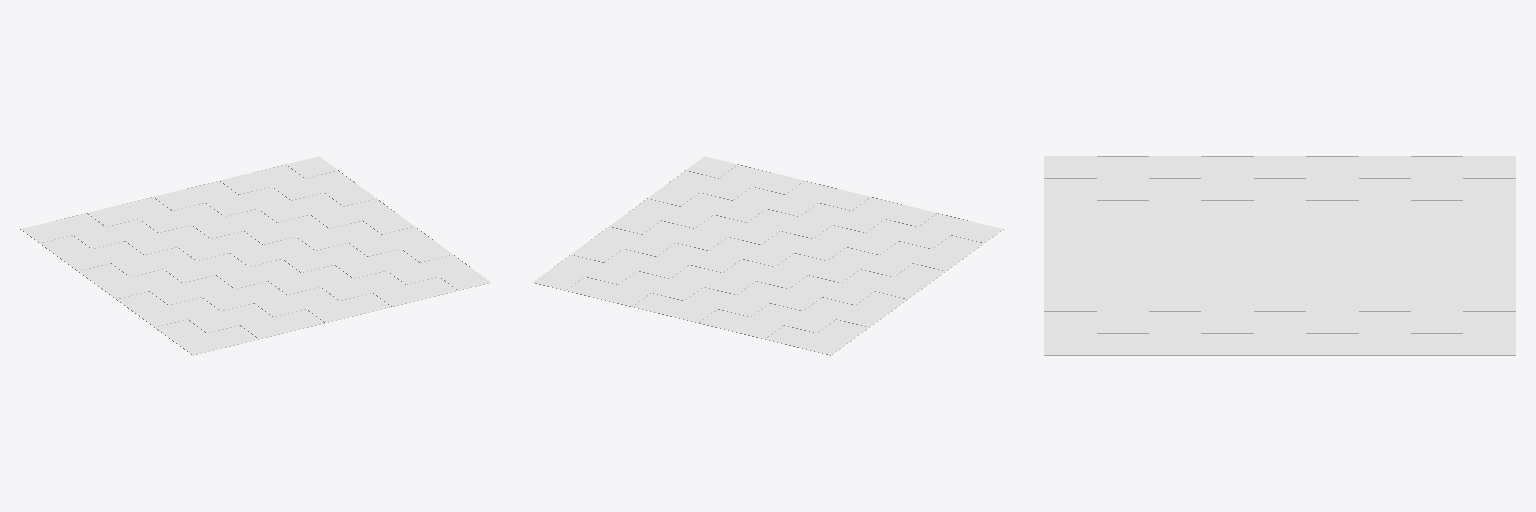
--- Render facts (derived) ---
3 views of the same robot in one strip: view 1: azimuth 30°, elevation 25°; view 2: azimuth 150°, elevation 25°; view 3: azimuth 270°, elevation 25° (orthographic).
Model terrain with 82 links and 81 joints (81 fixed), rooted at 0, posed every joint at zero.
Links seen in each view (by area): view 1: bords, 36, 48, 66, 14, 6, 78, 26, 0, 54, 72, 46 (+28 smaller); view 2: bords, 36, 12, 30, 68, 6, 78, 62, 0, 18, 72, 10 (+28 smaller); view 3: bords, 2, 74, 20, 38, 56, 0, 72, 28, 46, 29, 47 (+28 smaller).
Link boxes in pixels (<box>): bords: <box>20,164,488,355</box>; 36: <box>97,277,148,298</box>; 48: <box>178,239,228,260</box>; 66: <box>140,211,190,232</box>; 14: <box>321,279,371,300</box>; 6: <box>374,285,424,306</box>; 78: <box>220,173,271,193</box>; 26: <box>401,241,452,261</box>; 0: <box>174,333,224,354</box>; 54: <box>59,249,109,270</box>; 72: <box>21,221,71,242</box>; 46: <box>112,255,162,276</box>; bords: <box>535,164,1003,355</box>; 36: <box>875,277,926,298</box>; 12: <box>833,211,883,232</box>; 30: <box>795,239,845,260</box>; 68: <box>652,279,702,300</box>; 6: <box>752,173,803,193</box>; 78: <box>599,285,649,306</box>; 62: <box>571,241,622,261</box>; 0: <box>952,221,1002,242</box>; 18: <box>914,249,964,270</box>; 72: <box>799,333,849,354</box>; 10: <box>900,227,950,248</box>; bords: <box>1044,156,1515,355</box>; 2: <box>1044,200,1096,222</box>; 74: <box>1463,200,1515,222</box>; 20: <box>1149,200,1200,222</box>; 38: <box>1254,200,1305,222</box>; 56: <box>1359,200,1410,222</box>; 0: <box>1044,156,1096,177</box>; 72: <box>1463,156,1515,177</box>; 28: <box>1201,178,1253,199</box>; 46: <box>1306,178,1358,199</box>; 29: <box>1201,201,1253,222</box>; 47: <box>1306,201,1358,222</box>.
Bounding box of the posed robot: 18 × 18 × 0.02 m (x, y, z).
Meshes: 2 distinct files referenced, 82 mesh visuals loaded (2 OBJ).

The robot description file, URDF, robot "terrain":
<?xml version="0.0" ?>
<robot name="terrain">
  <link name="0">
  <contact>
    <lateral_friction value="1"/>
  </contact>
    <inertial>
      <origin rpy="0 0 0" xyz="0 0 0"/>
      <mass value=".0"/>
      <inertia ixx="0" ixy="0" ixz="0" iyy="0" iyz="0" izz="0"/>
    </inertial>
    <visual>
      <origin rpy="0 0 0" xyz="-8 -8 -0.0 "/>
    <geometry>
        <mesh filename="terrain1.obj" scale="1 1 1"/>
    </geometry>
    <material name="white">    <color rgba="1 1 1 1"/>    </material>    </visual>
    <collision>
      <origin rpy="0 0 0" xyz="-8 -8 -0.0 "/>
    <geometry>
        <mesh filename="terrain1.obj" scale="1 1 1"/>
    </geometry>
    </collision>
  </link>

  <link name="9">
  <contact>
    <lateral_friction value="1"/>
  </contact>
    <inertial>
      <origin rpy="0 0 0" xyz="0 0 0"/>
      <mass value=".0"/>
      <inertia ixx="0" ixy="0" ixz="0" iyy="0" iyz="0" izz="0"/>
    </inertial>
    <visual>
      <origin rpy="0 0 0" xyz="-8 -6 -0.02 "/>
    <geometry>
        <mesh filename="terrain1.obj" scale="1 1 1"/>
    </geometry>
    <material name="white">    <color rgba="1 1 1 1"/>    </material>    </visual>
    <collision>
      <origin rpy="0 0 0" xyz="-8 -6 -0.02 "/>
    <geometry>
        <mesh filename="terrain1.obj" scale="1 1 1"/>
    </geometry>
    </collision>
  </link>

  <link name="18">
  <contact>
    <lateral_friction value="1"/>
  </contact>
    <inertial>
      <origin rpy="0 0 0" xyz="0 0 0"/>
      <mass value=".0"/>
      <inertia ixx="0" ixy="0" ixz="0" iyy="0" iyz="0" izz="0"/>
    </inertial>
    <visual>
      <origin rpy="0 0 0" xyz="-8 -4 -0.0 "/>
    <geometry>
        <mesh filename="terrain1.obj" scale="1 1 1"/>
    </geometry>
    <material name="white">    <color rgba="1 1 1 1"/>    </material>    </visual>
    <collision>
      <origin rpy="0 0 0" xyz="-8 -4 -0.0 "/>
    <geometry>
        <mesh filename="terrain1.obj" scale="1 1 1"/>
    </geometry>
    </collision>
  </link>

  <link name="27">
  <contact>
    <lateral_friction value="1"/>
  </contact>
    <inertial>
      <origin rpy="0 0 0" xyz="0 0 0"/>
      <mass value=".0"/>
      <inertia ixx="0" ixy="0" ixz="0" iyy="0" iyz="0" izz="0"/>
    </inertial>
    <visual>
      <origin rpy="0 0 0" xyz="-8 -2 -0.02 "/>
    <geometry>
        <mesh filename="terrain1.obj" scale="1 1 1"/>
    </geometry>
    <material name="white">    <color rgba="1 1 1 1"/>    </material>    </visual>
    <collision>
      <origin rpy="0 0 0" xyz="-8 -2 -0.02 "/>
    <geometry>
        <mesh filename="terrain1.obj" scale="1 1 1"/>
    </geometry>
    </collision>
  </link>

  <link name="36">
  <contact>
    <lateral_friction value="1"/>
  </contact>
    <inertial>
      <origin rpy="0 0 0" xyz="0 0 0"/>
      <mass value=".0"/>
      <inertia ixx="0" ixy="0" ixz="0" iyy="0" iyz="0" izz="0"/>
    </inertial>
    <visual>
      <origin rpy="0 0 0" xyz="-8 0 -0.0 "/>
    <geometry>
        <mesh filename="terrain1.obj" scale="1 1 1"/>
    </geometry>
    <material name="white">    <color rgba="1 1 1 1"/>    </material>    </visual>
    <collision>
      <origin rpy="0 0 0" xyz="-8 0 -0.0 "/>
    <geometry>
        <mesh filename="terrain1.obj" scale="1 1 1"/>
    </geometry>
    </collision>
  </link>

  <link name="45">
  <contact>
    <lateral_friction value="1"/>
  </contact>
    <inertial>
      <origin rpy="0 0 0" xyz="0 0 0"/>
      <mass value=".0"/>
      <inertia ixx="0" ixy="0" ixz="0" iyy="0" iyz="0" izz="0"/>
    </inertial>
    <visual>
      <origin rpy="0 0 0" xyz="-8 2 -0.02 "/>
    <geometry>
        <mesh filename="terrain1.obj" scale="1 1 1"/>
    </geometry>
    <material name="white">    <color rgba="1 1 1 1"/>    </material>    </visual>
    <collision>
      <origin rpy="0 0 0" xyz="-8 2 -0.02 "/>
    <geometry>
        <mesh filename="terrain1.obj" scale="1 1 1"/>
    </geometry>
    </collision>
  </link>

  <link name="54">
  <contact>
    <lateral_friction value="1"/>
  </contact>
    <inertial>
      <origin rpy="0 0 0" xyz="0 0 0"/>
      <mass value=".0"/>
      <inertia ixx="0" ixy="0" ixz="0" iyy="0" iyz="0" izz="0"/>
    </inertial>
    <visual>
      <origin rpy="0 0 0" xyz="-8 4 -0.0 "/>
    <geometry>
        <mesh filename="terrain1.obj" scale="1 1 1"/>
    </geometry>
    <material name="white">    <color rgba="1 1 1 1"/>    </material>    </visual>
    <collision>
      <origin rpy="0 0 0" xyz="-8 4 -0.0 "/>
    <geometry>
        <mesh filename="terrain1.obj" scale="1 1 1"/>
    </geometry>
    </collision>
  </link>

  <link name="63">
  <contact>
    <lateral_friction value="1"/>
  </contact>
    <inertial>
      <origin rpy="0 0 0" xyz="0 0 0"/>
      <mass value=".0"/>
      <inertia ixx="0" ixy="0" ixz="0" iyy="0" iyz="0" izz="0"/>
    </inertial>
    <visual>
      <origin rpy="0 0 0" xyz="-8 6 -0.02 "/>
    <geometry>
        <mesh filename="terrain1.obj" scale="1 1 1"/>
    </geometry>
    <material name="white">    <color rgba="1 1 1 1"/>    </material>    </visual>
    <collision>
      <origin rpy="0 0 0" xyz="-8 6 -0.02 "/>
    <geometry>
        <mesh filename="terrain1.obj" scale="1 1 1"/>
    </geometry>
    </collision>
  </link>

  <link name="72">
  <contact>
    <lateral_friction value="1"/>
  </contact>
    <inertial>
      <origin rpy="0 0 0" xyz="0 0 0"/>
      <mass value=".0"/>
      <inertia ixx="0" ixy="0" ixz="0" iyy="0" iyz="0" izz="0"/>
    </inertial>
    <visual>
      <origin rpy="0 0 0" xyz="-8 8 -0.0 "/>
    <geometry>
        <mesh filename="terrain1.obj" scale="1 1 1"/>
    </geometry>
    <material name="white">    <color rgba="1 1 1 1"/>    </material>    </visual>
    <collision>
      <origin rpy="0 0 0" xyz="-8 8 -0.0 "/>
    <geometry>
        <mesh filename="terrain1.obj" scale="1 1 1"/>
    </geometry>
    </collision>
  </link>

  <link name="1">
  <contact>
    <lateral_friction value="1"/>
  </contact>
    <inertial>
      <origin rpy="0 0 0" xyz="0 0 0"/>
      <mass value=".0"/>
      <inertia ixx="0" ixy="0" ixz="0" iyy="0" iyz="0" izz="0"/>
    </inertial>
    <visual>
      <origin rpy="0 0 0" xyz="-6 -8 -0.02 "/>
    <geometry>
        <mesh filename="terrain1.obj" scale="1 1 1"/>
    </geometry>
    <material name="white">    <color rgba="1 1 1 1"/>    </material>    </visual>
    <collision>
      <origin rpy="0 0 0" xyz="-6 -8 -0.02 "/>
    <geometry>
        <mesh filename="terrain1.obj" scale="1 1 1"/>
    </geometry>
    </collision>
  </link>

  <link name="10">
  <contact>
    <lateral_friction value="1"/>
  </contact>
    <inertial>
      <origin rpy="0 0 0" xyz="0 0 0"/>
      <mass value=".0"/>
      <inertia ixx="0" ixy="0" ixz="0" iyy="0" iyz="0" izz="0"/>
    </inertial>
    <visual>
      <origin rpy="0 0 0" xyz="-6 -6 -0.0 "/>
    <geometry>
        <mesh filename="terrain1.obj" scale="1 1 1"/>
    </geometry>
    <material name="white">    <color rgba="1 1 1 1"/>    </material>    </visual>
    <collision>
      <origin rpy="0 0 0" xyz="-6 -6 -0.0 "/>
    <geometry>
        <mesh filename="terrain1.obj" scale="1 1 1"/>
    </geometry>
    </collision>
  </link>

  <link name="19">
  <contact>
    <lateral_friction value="1"/>
  </contact>
    <inertial>
      <origin rpy="0 0 0" xyz="0 0 0"/>
      <mass value=".0"/>
      <inertia ixx="0" ixy="0" ixz="0" iyy="0" iyz="0" izz="0"/>
    </inertial>
    <visual>
      <origin rpy="0 0 0" xyz="-6 -4 -0.02 "/>
    <geometry>
        <mesh filename="terrain1.obj" scale="1 1 1"/>
    </geometry>
    <material name="white">    <color rgba="1 1 1 1"/>    </material>    </visual>
    <collision>
      <origin rpy="0 0 0" xyz="-6 -4 -0.02 "/>
    <geometry>
        <mesh filename="terrain1.obj" scale="1 1 1"/>
    </geometry>
    </collision>
  </link>

  <link name="28">
  <contact>
    <lateral_friction value="1"/>
  </contact>
    <inertial>
      <origin rpy="0 0 0" xyz="0 0 0"/>
      <mass value=".0"/>
      <inertia ixx="0" ixy="0" ixz="0" iyy="0" iyz="0" izz="0"/>
    </inertial>
    <visual>
      <origin rpy="0 0 0" xyz="-6 -2 -0.0 "/>
    <geometry>
        <mesh filename="terrain1.obj" scale="1 1 1"/>
    </geometry>
    <material name="white">    <color rgba="1 1 1 1"/>    </material>    </visual>
    <collision>
      <origin rpy="0 0 0" xyz="-6 -2 -0.0 "/>
    <geometry>
        <mesh filename="terrain1.obj" scale="1 1 1"/>
    </geometry>
    </collision>
  </link>

  <link name="37">
  <contact>
    <lateral_friction value="1"/>
  </contact>
    <inertial>
      <origin rpy="0 0 0" xyz="0 0 0"/>
      <mass value=".0"/>
      <inertia ixx="0" ixy="0" ixz="0" iyy="0" iyz="0" izz="0"/>
    </inertial>
    <visual>
      <origin rpy="0 0 0" xyz="-6 0 -0.02 "/>
    <geometry>
        <mesh filename="terrain1.obj" scale="1 1 1"/>
    </geometry>
    <material name="white">    <color rgba="1 1 1 1"/>    </material>    </visual>
    <collision>
      <origin rpy="0 0 0" xyz="-6 0 -0.02 "/>
    <geometry>
        <mesh filename="terrain1.obj" scale="1 1 1"/>
    </geometry>
    </collision>
  </link>

  <link name="46">
  <contact>
    <lateral_friction value="1"/>
  </contact>
    <inertial>
      <origin rpy="0 0 0" xyz="0 0 0"/>
      <mass value=".0"/>
      <inertia ixx="0" ixy="0" ixz="0" iyy="0" iyz="0" izz="0"/>
    </inertial>
    <visual>
      <origin rpy="0 0 0" xyz="-6 2 -0.0 "/>
    <geometry>
        <mesh filename="terrain1.obj" scale="1 1 1"/>
    </geometry>
    <material name="white">    <color rgba="1 1 1 1"/>    </material>    </visual>
    <collision>
      <origin rpy="0 0 0" xyz="-6 2 -0.0 "/>
    <geometry>
        <mesh filename="terrain1.obj" scale="1 1 1"/>
    </geometry>
    </collision>
  </link>

  <link name="55">
  <contact>
    <lateral_friction value="1"/>
  </contact>
    <inertial>
      <origin rpy="0 0 0" xyz="0 0 0"/>
      <mass value=".0"/>
      <inertia ixx="0" ixy="0" ixz="0" iyy="0" iyz="0" izz="0"/>
    </inertial>
    <visual>
      <origin rpy="0 0 0" xyz="-6 4 -0.02 "/>
    <geometry>
        <mesh filename="terrain1.obj" scale="1 1 1"/>
    </geometry>
    <material name="white">    <color rgba="1 1 1 1"/>    </material>    </visual>
    <collision>
      <origin rpy="0 0 0" xyz="-6 4 -0.02 "/>
    <geometry>
        <mesh filename="terrain1.obj" scale="1 1 1"/>
    </geometry>
    </collision>
  </link>

  <link name="64">
  <contact>
    <lateral_friction value="1"/>
  </contact>
    <inertial>
      <origin rpy="0 0 0" xyz="0 0 0"/>
      <mass value=".0"/>
      <inertia ixx="0" ixy="0" ixz="0" iyy="0" iyz="0" izz="0"/>
    </inertial>
    <visual>
      <origin rpy="0 0 0" xyz="-6 6 -0.0 "/>
    <geometry>
        <mesh filename="terrain1.obj" scale="1 1 1"/>
    </geometry>
    <material name="white">    <color rgba="1 1 1 1"/>    </material>    </visual>
    <collision>
      <origin rpy="0 0 0" xyz="-6 6 -0.0 "/>
    <geometry>
        <mesh filename="terrain1.obj" scale="1 1 1"/>
    </geometry>
    </collision>
  </link>

  <link name="73">
  <contact>
    <lateral_friction value="1"/>
  </contact>
    <inertial>
      <origin rpy="0 0 0" xyz="0 0 0"/>
      <mass value=".0"/>
      <inertia ixx="0" ixy="0" ixz="0" iyy="0" iyz="0" izz="0"/>
    </inertial>
    <visual>
      <origin rpy="0 0 0" xyz="-6 8 -0.02 "/>
    <geometry>
        <mesh filename="terrain1.obj" scale="1 1 1"/>
    </geometry>
    <material name="white">    <color rgba="1 1 1 1"/>    </material>    </visual>
    <collision>
      <origin rpy="0 0 0" xyz="-6 8 -0.02 "/>
    <geometry>
        <mesh filename="terrain1.obj" scale="1 1 1"/>
    </geometry>
    </collision>
  </link>

  <link name="2">
  <contact>
    <lateral_friction value="1"/>
  </contact>
    <inertial>
      <origin rpy="0 0 0" xyz="0 0 0"/>
      <mass value=".0"/>
      <inertia ixx="0" ixy="0" ixz="0" iyy="0" iyz="0" izz="0"/>
    </inertial>
    <visual>
      <origin rpy="0 0 0" xyz="-4 -8 -0.0 "/>
    <geometry>
        <mesh filename="terrain1.obj" scale="1 1 1"/>
    </geometry>
    <material name="white">    <color rgba="1 1 1 1"/>    </material>    </visual>
    <collision>
      <origin rpy="0 0 0" xyz="-4 -8 -0.0 "/>
    <geometry>
        <mesh filename="terrain1.obj" scale="1 1 1"/>
    </geometry>
    </collision>
  </link>

  <link name="11">
  <contact>
    <lateral_friction value="1"/>
  </contact>
    <inertial>
      <origin rpy="0 0 0" xyz="0 0 0"/>
      <mass value=".0"/>
      <inertia ixx="0" ixy="0" ixz="0" iyy="0" iyz="0" izz="0"/>
    </inertial>
    <visual>
      <origin rpy="0 0 0" xyz="-4 -6 -0.02 "/>
    <geometry>
        <mesh filename="terrain1.obj" scale="1 1 1"/>
    </geometry>
    <material name="white">    <color rgba="1 1 1 1"/>    </material>    </visual>
    <collision>
      <origin rpy="0 0 0" xyz="-4 -6 -0.02 "/>
    <geometry>
        <mesh filename="terrain1.obj" scale="1 1 1"/>
    </geometry>
    </collision>
  </link>

  <link name="20">
  <contact>
    <lateral_friction value="1"/>
  </contact>
    <inertial>
      <origin rpy="0 0 0" xyz="0 0 0"/>
      <mass value=".0"/>
      <inertia ixx="0" ixy="0" ixz="0" iyy="0" iyz="0" izz="0"/>
    </inertial>
    <visual>
      <origin rpy="0 0 0" xyz="-4 -4 -0.0 "/>
    <geometry>
        <mesh filename="terrain1.obj" scale="1 1 1"/>
    </geometry>
    <material name="white">    <color rgba="1 1 1 1"/>    </material>    </visual>
    <collision>
      <origin rpy="0 0 0" xyz="-4 -4 -0.0 "/>
    <geometry>
        <mesh filename="terrain1.obj" scale="1 1 1"/>
    </geometry>
    </collision>
  </link>

  <link name="29">
  <contact>
    <lateral_friction value="1"/>
  </contact>
    <inertial>
      <origin rpy="0 0 0" xyz="0 0 0"/>
      <mass value=".0"/>
      <inertia ixx="0" ixy="0" ixz="0" iyy="0" iyz="0" izz="0"/>
    </inertial>
    <visual>
      <origin rpy="0 0 0" xyz="-4 -2 -0.02 "/>
    <geometry>
        <mesh filename="terrain1.obj" scale="1 1 1"/>
    </geometry>
    <material name="white">    <color rgba="1 1 1 1"/>    </material>    </visual>
    <collision>
      <origin rpy="0 0 0" xyz="-4 -2 -0.02 "/>
    <geometry>
        <mesh filename="terrain1.obj" scale="1 1 1"/>
    </geometry>
    </collision>
  </link>

  <link name="38">
  <contact>
    <lateral_friction value="1"/>
  </contact>
    <inertial>
      <origin rpy="0 0 0" xyz="0 0 0"/>
      <mass value=".0"/>
      <inertia ixx="0" ixy="0" ixz="0" iyy="0" iyz="0" izz="0"/>
    </inertial>
    <visual>
      <origin rpy="0 0 0" xyz="-4 0 -0.0 "/>
    <geometry>
        <mesh filename="terrain1.obj" scale="1 1 1"/>
    </geometry>
    <material name="white">    <color rgba="1 1 1 1"/>    </material>    </visual>
    <collision>
      <origin rpy="0 0 0" xyz="-4 0 -0.0 "/>
    <geometry>
        <mesh filename="terrain1.obj" scale="1 1 1"/>
    </geometry>
    </collision>
  </link>

  <link name="47">
  <contact>
    <lateral_friction value="1"/>
  </contact>
    <inertial>
      <origin rpy="0 0 0" xyz="0 0 0"/>
      <mass value=".0"/>
      <inertia ixx="0" ixy="0" ixz="0" iyy="0" iyz="0" izz="0"/>
    </inertial>
    <visual>
      <origin rpy="0 0 0" xyz="-4 2 -0.02 "/>
    <geometry>
        <mesh filename="terrain1.obj" scale="1 1 1"/>
    </geometry>
    <material name="white">    <color rgba="1 1 1 1"/>    </material>    </visual>
    <collision>
      <origin rpy="0 0 0" xyz="-4 2 -0.02 "/>
    <geometry>
        <mesh filename="terrain1.obj" scale="1 1 1"/>
    </geometry>
    </collision>
  </link>

  <link name="56">
  <contact>
    <lateral_friction value="1"/>
  </contact>
    <inertial>
      <origin rpy="0 0 0" xyz="0 0 0"/>
      <mass value=".0"/>
      <inertia ixx="0" ixy="0" ixz="0" iyy="0" iyz="0" izz="0"/>
    </inertial>
    <visual>
      <origin rpy="0 0 0" xyz="-4 4 -0.0 "/>
    <geometry>
        <mesh filename="terrain1.obj" scale="1 1 1"/>
    </geometry>
    <material name="white">    <color rgba="1 1 1 1"/>    </material>    </visual>
    <collision>
      <origin rpy="0 0 0" xyz="-4 4 -0.0 "/>
    <geometry>
        <mesh filename="terrain1.obj" scale="1 1 1"/>
    </geometry>
    </collision>
  </link>

  <link name="65">
  <contact>
    <lateral_friction value="1"/>
  </contact>
    <inertial>
      <origin rpy="0 0 0" xyz="0 0 0"/>
      <mass value=".0"/>
      <inertia ixx="0" ixy="0" ixz="0" iyy="0" iyz="0" izz="0"/>
    </inertial>
    <visual>
      <origin rpy="0 0 0" xyz="-4 6 -0.02 "/>
    <geometry>
        <mesh filename="terrain1.obj" scale="1 1 1"/>
    </geometry>
    <material name="white">    <color rgba="1 1 1 1"/>    </material>    </visual>
    <collision>
      <origin rpy="0 0 0" xyz="-4 6 -0.02 "/>
    <geometry>
        <mesh filename="terrain1.obj" scale="1 1 1"/>
    </geometry>
    </collision>
  </link>

  <link name="74">
  <contact>
    <lateral_friction value="1"/>
  </contact>
    <inertial>
      <origin rpy="0 0 0" xyz="0 0 0"/>
      <mass value=".0"/>
      <inertia ixx="0" ixy="0" ixz="0" iyy="0" iyz="0" izz="0"/>
    </inertial>
    <visual>
      <origin rpy="0 0 0" xyz="-4 8 -0.0 "/>
    <geometry>
        <mesh filename="terrain1.obj" scale="1 1 1"/>
    </geometry>
    <material name="white">    <color rgba="1 1 1 1"/>    </material>    </visual>
    <collision>
      <origin rpy="0 0 0" xyz="-4 8 -0.0 "/>
    <geometry>
        <mesh filename="terrain1.obj" scale="1 1 1"/>
    </geometry>
    </collision>
  </link>

  <link name="3">
  <contact>
    <lateral_friction value="1"/>
  </contact>
    <inertial>
      <origin rpy="0 0 0" xyz="0 0 0"/>
      <mass value=".0"/>
      <inertia ixx="0" ixy="0" ixz="0" iyy="0" iyz="0" izz="0"/>
    </inertial>
    <visual>
      <origin rpy="0 0 0" xyz="-2 -8 -0.02 "/>
    <geometry>
        <mesh filename="terrain1.obj" scale="1 1 1"/>
    </geometry>
    <material name="white">    <color rgba="1 1 1 1"/>    </material>    </visual>
    <collision>
      <origin rpy="0 0 0" xyz="-2 -8 -0.02 "/>
    <geometry>
        <mesh filename="terrain1.obj" scale="1 1 1"/>
    </geometry>
    </collision>
  </link>

  <link name="12">
  <contact>
    <lateral_friction value="1"/>
  </contact>
    <inertial>
      <origin rpy="0 0 0" xyz="0 0 0"/>
      <mass value=".0"/>
      <inertia ixx="0" ixy="0" ixz="0" iyy="0" iyz="0" izz="0"/>
    </inertial>
    <visual>
      <origin rpy="0 0 0" xyz="-2 -6 -0.0 "/>
    <geometry>
        <mesh filename="terrain1.obj" scale="1 1 1"/>
    </geometry>
    <material name="white">    <color rgba="1 1 1 1"/>    </material>    </visual>
    <collision>
      <origin rpy="0 0 0" xyz="-2 -6 -0.0 "/>
    <geometry>
        <mesh filename="terrain1.obj" scale="1 1 1"/>
    </geometry>
    </collision>
  </link>

  <link name="21">
  <contact>
    <lateral_friction value="1"/>
  </contact>
    <inertial>
      <origin rpy="0 0 0" xyz="0 0 0"/>
      <mass value=".0"/>
      <inertia ixx="0" ixy="0" ixz="0" iyy="0" iyz="0" izz="0"/>
    </inertial>
    <visual>
      <origin rpy="0 0 0" xyz="-2 -4 -0.02 "/>
    <geometry>
        <mesh filename="terrain1.obj" scale="1 1 1"/>
    </geometry>
    <material name="white">    <color rgba="1 1 1 1"/>    </material>    </visual>
    <collision>
      <origin rpy="0 0 0" xyz="-2 -4 -0.02 "/>
    <geometry>
        <mesh filename="terrain1.obj" scale="1 1 1"/>
    </geometry>
    </collision>
  </link>

  <link name="30">
  <contact>
    <lateral_friction value="1"/>
  </contact>
    <inertial>
      <origin rpy="0 0 0" xyz="0 0 0"/>
      <mass value=".0"/>
      <inertia ixx="0" ixy="0" ixz="0" iyy="0" iyz="0" izz="0"/>
    </inertial>
    <visual>
      <origin rpy="0 0 0" xyz="-2 -2 -0.0 "/>
    <geometry>
        <mesh filename="terrain1.obj" scale="1 1 1"/>
    </geometry>
    <material name="white">    <color rgba="1 1 1 1"/>    </material>    </visual>
    <collision>
      <origin rpy="0 0 0" xyz="-2 -2 -0.0 "/>
    <geometry>
        <mesh filename="terrain1.obj" scale="1 1 1"/>
    </geometry>
    </collision>
  </link>

  <link name="39">
  <contact>
    <lateral_friction value="1"/>
  </contact>
    <inertial>
      <origin rpy="0 0 0" xyz="0 0 0"/>
      <mass value=".0"/>
      <inertia ixx="0" ixy="0" ixz="0" iyy="0" iyz="0" izz="0"/>
    </inertial>
    <visual>
      <origin rpy="0 0 0" xyz="-2 0 -0.02 "/>
    <geometry>
        <mesh filename="terrain1.obj" scale="1 1 1"/>
    </geometry>
    <material name="white">    <color rgba="1 1 1 1"/>    </material>    </visual>
    <collision>
      <origin rpy="0 0 0" xyz="-2 0 -0.02 "/>
    <geometry>
        <mesh filename="terrain1.obj" scale="1 1 1"/>
    </geometry>
    </collision>
  </link>

  <link name="48">
  <contact>
    <lateral_friction value="1"/>
  </contact>
    <inertial>
      <origin rpy="0 0 0" xyz="0 0 0"/>
      <mass value=".0"/>
      <inertia ixx="0" ixy="0" ixz="0" iyy="0" iyz="0" izz="0"/>
    </inertial>
    <visual>
      <origin rpy="0 0 0" xyz="-2 2 -0.0 "/>
    <geometry>
        <mesh filename="terrain1.obj" scale="1 1 1"/>
    </geometry>
    <material name="white">    <color rgba="1 1 1 1"/>    </material>    </visual>
    <collision>
      <origin rpy="0 0 0" xyz="-2 2 -0.0 "/>
    <geometry>
        <mesh filename="terrain1.obj" scale="1 1 1"/>
    </geometry>
    </collision>
  </link>

  <link name="57">
  <contact>
    <lateral_friction value="1"/>
  </contact>
    <inertial>
      <origin rpy="0 0 0" xyz="0 0 0"/>
      <mass value=".0"/>
      <inertia ixx="0" ixy="0" ixz="0" iyy="0" iyz="0" izz="0"/>
    </inertial>
    <visual>
      <origin rpy="0 0 0" xyz="-2 4 -0.02 "/>
    <geometry>
        <mesh filename="terrain1.obj" scale="1 1 1"/>
    </geometry>
    <material name="white">    <color rgba="1 1 1 1"/>    </material>    </visual>
    <collision>
      <origin rpy="0 0 0" xyz="-2 4 -0.02 "/>
    <geometry>
        <mesh filename="terrain1.obj" scale="1 1 1"/>
    </geometry>
    </collision>
  </link>

  <link name="66">
  <contact>
    <lateral_friction value="1"/>
  </contact>
    <inertial>
      <origin rpy="0 0 0" xyz="0 0 0"/>
      <mass value=".0"/>
      <inertia ixx="0" ixy="0" ixz="0" iyy="0" iyz="0" izz="0"/>
    </inertial>
    <visual>
      <origin rpy="0 0 0" xyz="-2 6 -0.0 "/>
    <geometry>
        <mesh filename="terrain1.obj" scale="1 1 1"/>
    </geometry>
    <material name="white">    <color rgba="1 1 1 1"/>    </material>    </visual>
    <collision>
      <origin rpy="0 0 0" xyz="-2 6 -0.0 "/>
    <geometry>
        <mesh filename="terrain1.obj" scale="1 1 1"/>
    </geometry>
    </collision>
  </link>

  <link name="75">
  <contact>
    <lateral_friction value="1"/>
  </contact>
    <inertial>
      <origin rpy="0 0 0" xyz="0 0 0"/>
      <mass value=".0"/>
      <inertia ixx="0" ixy="0" ixz="0" iyy="0" iyz="0" izz="0"/>
    </inertial>
    <visual>
      <origin rpy="0 0 0" xyz="-2 8 -0.02 "/>
    <geometry>
        <mesh filename="terrain1.obj" scale="1 1 1"/>
    </geometry>
    <material name="white">    <color rgba="1 1 1 1"/>    </material>    </visual>
    <collision>
      <origin rpy="0 0 0" xyz="-2 8 -0.02 "/>
    <geometry>
        <mesh filename="terrain1.obj" scale="1 1 1"/>
    </geometry>
    </collision>
  </link>

  <link name="4">
  <contact>
    <lateral_friction value="1"/>
  </contact>
    <inertial>
      <origin rpy="0 0 0" xyz="0 0 0"/>
      <mass value=".0"/>
      <inertia ixx="0" ixy="0" ixz="0" iyy="0" iyz="0" izz="0"/>
    </inertial>
    <visual>
      <origin rpy="0 0 0" xyz="0 -8 -0.0 "/>
    <geometry>
        <mesh filename="terrain1.obj" scale="1 1 1"/>
    </geometry>
    <material name="white">    <color rgba="1 1 1 1"/>    </material>    </visual>
    <collision>
      <origin rpy="0 0 0" xyz="0 -8 -0.0 "/>
    <geometry>
        <mesh filename="terrain1.obj" scale="1 1 1"/>
    </geometry>
    </collision>
  </link>

  <link name="13">
  <contact>
    <lateral_friction value="1"/>
  </contact>
    <inertial>
      <origin rpy="0 0 0" xyz="0 0 0"/>
      <mass value=".0"/>
      <inertia ixx="0" ixy="0" ixz="0" iyy="0" iyz="0" izz="0"/>
    </inertial>
    <visual>
      <origin rpy="0 0 0" xyz="0 -6 -0.02 "/>
    <geometry>
        <mesh filename="terrain1.obj" scale="1 1 1"/>
    </geometry>
    <material name="white">    <color rgba="1 1 1 1"/>    </material>    </visual>
    <collision>
      <origin rpy="0 0 0" xyz="0 -6 -0.02 "/>
    <geometry>
        <mesh filename="terrain1.obj" scale="1 1 1"/>
    </geometry>
    </collision>
  </link>

  <link name="22">
  <contact>
    <lateral_friction value="1"/>
  </contact>
    <inertial>
      <origin rpy="0 0 0" xyz="0 0 0"/>
      <mass value=".0"/>
      <inertia ixx="0" ixy="0" ixz="0" iyy="0" iyz="0" izz="0"/>
    </inertial>
    <visual>
      <origin rpy="0 0 0" xyz="0 -4 -0.0 "/>
    <geometry>
        <mesh filename="terrain1.obj" scale="1 1 1"/>
    </geometry>
    <material name="white">    <color rgba="1 1 1 1"/>    </material>    </visual>
    <collision>
      <origin rpy="0 0 0" xyz="0 -4 -0.0 "/>
    <geometry>
        <mesh filename="terrain1.obj" scale="1 1 1"/>
    </geometry>
    </collision>
  </link>

  <link name="31">
  <contact>
    <lateral_friction value="1"/>
  </contact>
    <inertial>
      <origin rpy="0 0 0" xyz="0 0 0"/>
      <mass value=".0"/>
      <inertia ixx="0" ixy="0" ixz="0" iyy="0" iyz="0" izz="0"/>
    </inertial>
    <visual>
      <origin rpy="0 0 0" xyz="0 -2 -0.02 "/>
    <geometry>
        <mesh filename="terrain1.obj" scale="1 1 1"/>
    </geometry>
    <material name="white">    <color rgba="1 1 1 1"/>    </material>    </visual>
    <collision>
      <origin rpy="0 0 0" xyz="0 -2 -0.02 "/>
    <geometry>
        <mesh filename="terrain1.obj" scale="1 1 1"/>
    </geometry>
    </collision>
  </link>

  <link name="40">
  <contact>
    <lateral_friction value="1"/>
  </contact>
    <inertial>
      <origin rpy="0 0 0" xyz="0 0 0"/>
      <mass value=".0"/>
      <inertia ixx="0" ixy="0" ixz="0" iyy="0" iyz="0" izz="0"/>
    </inertial>
    <visual>
      <origin rpy="0 0 0" xyz="0 0 -0.0 "/>
    <geometry>
        <mesh filename="terrain1.obj" scale="1 1 1"/>
    </geometry>
    <material name="white">    <color rgba="1 1 1 1"/>    </material>    </visual>
    <collision>
      <origin rpy="0 0 0" xyz="0 0 -0.0 "/>
    <geometry>
        <mesh filename="terrain1.obj" scale="1 1 1"/>
    </geometry>
    </collision>
  </link>

  <link name="49">
  <contact>
    <lateral_friction value="1"/>
  </contact>
    <inertial>
      <origin rpy="0 0 0" xyz="0 0 0"/>
      <mass value=".0"/>
      <inertia ixx="0" ixy="0" ixz="0" iyy="0" iyz="0" izz="0"/>
    </inertial>
    <visual>
      <origin rpy="0 0 0" xyz="0 2 -0.02 "/>
    <geometry>
        <mesh filename="terrain1.obj" scale="1 1 1"/>
    </geometry>
    <material name="white">    <color rgba="1 1 1 1"/>    </material>    </visual>
    <collision>
      <origin rpy="0 0 0" xyz="0 2 -0.02 "/>
    <geometry>
        <mesh filename="terrain1.obj" scale="1 1 1"/>
    </geometry>
    </collision>
  </link>

  <link name="58">
  <contact>
    <lateral_friction value="1"/>
  </contact>
    <inertial>
      <origin rpy="0 0 0" xyz="0 0 0"/>
      <mass value=".0"/>
      <inertia ixx="0" ixy="0" ixz="0" iyy="0" iyz="0" izz="0"/>
    </inertial>
    <visual>
      <origin rpy="0 0 0" xyz="0 4 -0.0 "/>
    <geometry>
        <mesh filename="terrain1.obj" scale="1 1 1"/>
    </geometry>
    <material name="white">    <color rgba="1 1 1 1"/>    </material>    </visual>
    <collision>
      <origin rpy="0 0 0" xyz="0 4 -0.0 "/>
    <geometry>
        <mesh filename="terrain1.obj" scale="1 1 1"/>
    </geometry>
    </collision>
  </link>

  <link name="67">
  <contact>
    <lateral_friction value="1"/>
  </contact>
    <inertial>
      <origin rpy="0 0 0" xyz="0 0 0"/>
      <mass value=".0"/>
      <inertia ixx="0" ixy="0" ixz="0" iyy="0" iyz="0" izz="0"/>
    </inertial>
    <visual>
      <origin rpy="0 0 0" xyz="0 6 -0.02 "/>
    <geometry>
        <mesh filename="terrain1.obj" scale="1 1 1"/>
    </geometry>
    <material name="white">    <color rgba="1 1 1 1"/>    </material>    </visual>
    <collision>
      <origin rpy="0 0 0" xyz="0 6 -0.02 "/>
    <geometry>
        <mesh filename="terrain1.obj" scale="1 1 1"/>
    </geometry>
    </collision>
  </link>

  <link name="76">
  <contact>
    <lateral_friction value="1"/>
  </contact>
    <inertial>
      <origin rpy="0 0 0" xyz="0 0 0"/>
      <mass value=".0"/>
      <inertia ixx="0" ixy="0" ixz="0" iyy="0" iyz="0" izz="0"/>
    </inertial>
    <visual>
      <origin rpy="0 0 0" xyz="0 8 -0.0 "/>
    <geometry>
        <mesh filename="terrain1.obj" scale="1 1 1"/>
    </geometry>
    <material name="white">    <color rgba="1 1 1 1"/>    </material>    </visual>
    <collision>
      <origin rpy="0 0 0" xyz="0 8 -0.0 "/>
    <geometry>
        <mesh filename="terrain1.obj" scale="1 1 1"/>
    </geometry>
    </collision>
  </link>

  <link name="5">
  <contact>
    <lateral_friction value="1"/>
  </contact>
    <inertial>
      <origin rpy="0 0 0" xyz="0 0 0"/>
      <mass value=".0"/>
      <inertia ixx="0" ixy="0" ixz="0" iyy="0" iyz="0" izz="0"/>
    </inertial>
    <visual>
      <origin rpy="0 0 0" xyz="2 -8 -0.02 "/>
    <geometry>
        <mesh filename="terrain1.obj" scale="1 1 1"/>
    </geometry>
    <material name="white">    <color rgba="1 1 1 1"/>    </material>    </visual>
    <collision>
      <origin rpy="0 0 0" xyz="2 -8 -0.02 "/>
    <geometry>
        <mesh filename="terrain1.obj" scale="1 1 1"/>
    </geometry>
    </collision>
  </link>

  <link name="14">
  <contact>
    <lateral_friction value="1"/>
  </contact>
    <inertial>
      <origin rpy="0 0 0" xyz="0 0 0"/>
      <mass value=".0"/>
      <inertia ixx="0" ixy="0" ixz="0" iyy="0" iyz="0" izz="0"/>
    </inertial>
    <visual>
      <origin rpy="0 0 0" xyz="2 -6 -0.0 "/>
    <geometry>
        <mesh filename="terrain1.obj" scale="1 1 1"/>
    </geometry>
    <material name="white">    <color rgba="1 1 1 1"/>    </material>    </visual>
    <collision>
      <origin rpy="0 0 0" xyz="2 -6 -0.0 "/>
    <geometry>
        <mesh filename="terrain1.obj" scale="1 1 1"/>
    </geometry>
    </collision>
  </link>

  <link name="23">
  <contact>
    <lateral_friction value="1"/>
  </contact>
    <inertial>
      <origin rpy="0 0 0" xyz="0 0 0"/>
      <mass value=".0"/>
      <inertia ixx="0" ixy="0" ixz="0" iyy="0" iyz="0" izz="0"/>
    </inertial>
    <visual>
      <origin rpy="0 0 0" xyz="2 -4 -0.02 "/>
    <geometry>
        <mesh filename="terrain1.obj" scale="1 1 1"/>
    </geometry>
    <material name="white">    <color rgba="1 1 1 1"/>    </material>    </visual>
    <collision>
      <origin rpy="0 0 0" xyz="2 -4 -0.02 "/>
    <geometry>
        <mesh filename="terrain1.obj" scale="1 1 1"/>
    </geometry>
    </collision>
  </link>

  <link name="32">
  <contact>
    <lateral_friction value="1"/>
  </contact>
    <inertial>
      <origin rpy="0 0 0" xyz="0 0 0"/>
      <mass value=".0"/>
      <inertia ixx="0" ixy="0" ixz="0" iyy="0" iyz="0" izz="0"/>
    </inertial>
    <visual>
      <origin rpy="0 0 0" xyz="2 -2 -0.0 "/>
    <geometry>
        <mesh filename="terrain1.obj" scale="1 1 1"/>
    </geometry>
    <material name="white">    <color rgba="1 1 1 1"/>    </material>    </visual>
    <collision>
      <origin rpy="0 0 0" xyz="2 -2 -0.0 "/>
    <geometry>
        <mesh filename="terrain1.obj" scale="1 1 1"/>
    </geometry>
    </collision>
  </link>

  <link name="41">
  <contact>
    <lateral_friction value="1"/>
  </contact>
    <inertial>
      <origin rpy="0 0 0" xyz="0 0 0"/>
      <mass value=".0"/>
      <inertia ixx="0" ixy="0" ixz="0" iyy="0" iyz="0" izz="0"/>
    </inertial>
    <visual>
      <origin rpy="0 0 0" xyz="2 0 -0.02 "/>
    <geometry>
        <mesh filename="terrain1.obj" scale="1 1 1"/>
    </geometry>
    <material name="white">    <color rgba="1 1 1 1"/>    </material>    </visual>
    <collision>
      <origin rpy="0 0 0" xyz="2 0 -0.02 "/>
    <geometry>
        <mesh filename="terrain1.obj" scale="1 1 1"/>
    </geometry>
    </collision>
  </link>

  <link name="50">
  <contact>
    <lateral_friction value="1"/>
  </contact>
    <inertial>
      <origin rpy="0 0 0" xyz="0 0 0"/>
      <mass value=".0"/>
      <inertia ixx="0" ixy="0" ixz="0" iyy="0" iyz="0" izz="0"/>
    </inertial>
    <visual>
      <origin rpy="0 0 0" xyz="2 2 -0.0 "/>
    <geometry>
        <mesh filename="terrain1.obj" scale="1 1 1"/>
    </geometry>
    <material name="white">    <color rgba="1 1 1 1"/>    </material>    </visual>
    <collision>
      <origin rpy="0 0 0" xyz="2 2 -0.0 "/>
    <geometry>
        <mesh filename="terrain1.obj" scale="1 1 1"/>
    </geometry>
    </collision>
  </link>

  <link name="59">
  <contact>
    <lateral_friction value="1"/>
  </contact>
    <inertial>
      <origin rpy="0 0 0" xyz="0 0 0"/>
      <mass value=".0"/>
      <inertia ixx="0" ixy="0" ixz="0" iyy="0" iyz="0" izz="0"/>
    </inertial>
    <visual>
      <origin rpy="0 0 0" xyz="2 4 -0.02 "/>
    <geometry>
        <mesh filename="terrain1.obj" scale="1 1 1"/>
    </geometry>
    <material name="white">    <color rgba="1 1 1 1"/>    </material>    </visual>
    <collision>
      <origin rpy="0 0 0" xyz="2 4 -0.02 "/>
    <geometry>
        <mesh filename="terrain1.obj" scale="1 1 1"/>
    </geometry>
    </collision>
  </link>

  <link name="68">
  <contact>
    <lateral_friction value="1"/>
  </contact>
    <inertial>
      <origin rpy="0 0 0" xyz="0 0 0"/>
      <mass value=".0"/>
      <inertia ixx="0" ixy="0" ixz="0" iyy="0" iyz="0" izz="0"/>
    </inertial>
    <visual>
      <origin rpy="0 0 0" xyz="2 6 -0.0 "/>
    <geometry>
        <mesh filename="terrain1.obj" scale="1 1 1"/>
    </geometry>
    <material name="white">    <color rgba="1 1 1 1"/>    </material>    </visual>
    <collision>
      <origin rpy="0 0 0" xyz="2 6 -0.0 "/>
    <geometry>
        <mesh filename="terrain1.obj" scale="1 1 1"/>
    </geometry>
    </collision>
  </link>

  <link name="77">
  <contact>
    <lateral_friction value="1"/>
  </contact>
    <inertial>
      <origin rpy="0 0 0" xyz="0 0 0"/>
      <mass value=".0"/>
      <inertia ixx="0" ixy="0" ixz="0" iyy="0" iyz="0" izz="0"/>
    </inertial>
    <visual>
      <origin rpy="0 0 0" xyz="2 8 -0.02 "/>
    <geometry>
        <mesh filename="terrain1.obj" scale="1 1 1"/>
    </geometry>
    <material name="white">    <color rgba="1 1 1 1"/>    </material>    </visual>
    <collision>
      <origin rpy="0 0 0" xyz="2 8 -0.02 "/>
    <geometry>
        <mesh filename="terrain1.obj" scale="1 1 1"/>
    </geometry>
    </collision>
  </link>

  <link name="6">
  <contact>
    <lateral_friction value="1"/>
  </contact>
    <inertial>
      <origin rpy="0 0 0" xyz="0 0 0"/>
      <mass value=".0"/>
      <inertia ixx="0" ixy="0" ixz="0" iyy="0" iyz="0" izz="0"/>
    </inertial>
    <visual>
      <origin rpy="0 0 0" xyz="4 -8 -0.0 "/>
    <geometry>
        <mesh filename="terrain1.obj" scale="1 1 1"/>
    </geometry>
    <material name="white">    <color rgba="1 1 1 1"/>    </material>    </visual>
    <collision>
      <origin rpy="0 0 0" xyz="4 -8 -0.0 "/>
    <geometry>
        <mesh filename="terrain1.obj" scale="1 1 1"/>
    </geometry>
    </collision>
  </link>

  <link name="15">
  <contact>
    <lateral_friction value="1"/>
  </contact>
    <inertial>
      <origin rpy="0 0 0" xyz="0 0 0"/>
      <mass value=".0"/>
      <inertia ixx="0" ixy="0" ixz="0" iyy="0" iyz="0" izz="0"/>
    </inertial>
    <visual>
      <origin rpy="0 0 0" xyz="4 -6 -0.02 "/>
    <geometry>
        <mesh filename="terrain1.obj" scale="1 1 1"/>
    </geometry>
    <material name="white">    <color rgba="1 1 1 1"/>    </material>    </visual>
    <collision>
      <origin rpy="0 0 0" xyz="4 -6 -0.02 "/>
    <geometry>
        <mesh filename="terrain1.obj" scale="1 1 1"/>
    </geometry>
    </collision>
  </link>

  <link name="24">
  <contact>
    <lateral_friction value="1"/>
  </contact>
    <inertial>
      <origin rpy="0 0 0" xyz="0 0 0"/>
      <mass value=".0"/>
      <inertia ixx="0" ixy="0" ixz="0" iyy="0" iyz="0" izz="0"/>
    </inertial>
    <visual>
      <origin rpy="0 0 0" xyz="4 -4 -0.0 "/>
    <geometry>
        <mesh filename="terrain1.obj" scale="1 1 1"/>
    </geometry>
    <material name="white">    <color rgba="1 1 1 1"/>    </material>    </visual>
    <collision>
      <origin rpy="0 0 0" xyz="4 -4 -0.0 "/>
    <geometry>
        <mesh filename="terrain1.obj" scale="1 1 1"/>
    </geometry>
    </collision>
  </link>

  <link name="33">
  <contact>
    <lateral_friction value="1"/>
  </contact>
    <inertial>
      <origin rpy="0 0 0" xyz="0 0 0"/>
      <mass value=".0"/>
      <inertia ixx="0" ixy="0" ixz="0" iyy="0" iyz="0" izz="0"/>
    </inertial>
    <visual>
      <origin rpy="0 0 0" xyz="4 -2 -0.02 "/>
    <geometry>
        <mesh filename="terrain1.obj" scale="1 1 1"/>
    </geometry>
    <material name="white">    <color rgba="1 1 1 1"/>    </material>    </visual>
    <collision>
      <origin rpy="0 0 0" xyz="4 -2 -0.02 "/>
    <geometry>
        <mesh filename="terrain1.obj" scale="1 1 1"/>
    </geometry>
    </collision>
  </link>

  <link name="42">
  <contact>
    <lateral_friction value="1"/>
  </contact>
    <inertial>
      <origin rpy="0 0 0" xyz="0 0 0"/>
      <mass value=".0"/>
      <inertia ixx="0" ixy="0" ixz="0" iyy="0" iyz="0" izz="0"/>
    </inertial>
    <visual>
      <origin rpy="0 0 0" xyz="4 0 -0.0 "/>
    <geometry>
        <mesh filename="terrain1.obj" scale="1 1 1"/>
    </geometry>
    <material name="white">    <color rgba="1 1 1 1"/>    </material>    </visual>
    <collision>
      <origin rpy="0 0 0" xyz="4 0 -0.0 "/>
    <geometry>
        <mesh filename="terrain1.obj" scale="1 1 1"/>
    </geometry>
    </collision>
  </link>

  <link name="51">
  <contact>
    <lateral_friction value="1"/>
  </contact>
    <inertial>
      <origin rpy="0 0 0" xyz="0 0 0"/>
      <mass value=".0"/>
      <inertia ixx="0" ixy="0" ixz="0" iyy="0" iyz="0" izz="0"/>
    </inertial>
    <visual>
      <origin rpy="0 0 0" xyz="4 2 -0.02 "/>
    <geometry>
        <mesh filename="terrain1.obj" scale="1 1 1"/>
    </geometry>
    <material name="white">    <color rgba="1 1 1 1"/>    </material>    </visual>
    <collision>
      <origin rpy="0 0 0" xyz="4 2 -0.02 "/>
    <geometry>
        <mesh filename="terrain1.obj" scale="1 1 1"/>
    </geometry>
    </collision>
  </link>

  <link name="60">
  <contact>
    <lateral_friction value="1"/>
  </contact>
    <inertial>
      <origin rpy="0 0 0" xyz="0 0 0"/>
      <mass value=".0"/>
      <inertia ixx="0" ixy="0" ixz="0" iyy="0" iyz="0" izz="0"/>
    </inertial>
    <visual>
      <origin rpy="0 0 0" xyz="4 4 -0.0 "/>
    <geometry>
        <mesh filename="terrain1.obj" scale="1 1 1"/>
    </geometry>
    <material name="white">    <color rgba="1 1 1 1"/>    </material>    </visual>
    <collision>
      <origin rpy="0 0 0" xyz="4 4 -0.0 "/>
    <geometry>
        <mesh filename="terrain1.obj" scale="1 1 1"/>
    </geometry>
    </collision>
  </link>

  <link name="69">
  <contact>
    <lateral_friction value="1"/>
  </contact>
    <inertial>
      <origin rpy="0 0 0" xyz="0 0 0"/>
      <mass value=".0"/>
      <inertia ixx="0" ixy="0" ixz="0" iyy="0" iyz="0" izz="0"/>
    </inertial>
    <visual>
      <origin rpy="0 0 0" xyz="4 6 -0.02 "/>
    <geometry>
        <mesh filename="terrain1.obj" scale="1 1 1"/>
    </geometry>
    <material name="white">    <color rgba="1 1 1 1"/>    </material>    </visual>
    <collision>
      <origin rpy="0 0 0" xyz="4 6 -0.02 "/>
    <geometry>
        <mesh filename="terrain1.obj" scale="1 1 1"/>
    </geometry>
    </collision>
  </link>

  <link name="78">
  <contact>
    <lateral_friction value="1"/>
  </contact>
    <inertial>
      <origin rpy="0 0 0" xyz="0 0 0"/>
      <mass value=".0"/>
      <inertia ixx="0" ixy="0" ixz="0" iyy="0" iyz="0" izz="0"/>
    </inertial>
    <visual>
      <origin rpy="0 0 0" xyz="4 8 -0.0 "/>
    <geometry>
        <mesh filename="terrain1.obj" scale="1 1 1"/>
    </geometry>
    <material name="white">    <color rgba="1 1 1 1"/>    </material>    </visual>
    <collision>
      <origin rpy="0 0 0" xyz="4 8 -0.0 "/>
    <geometry>
        <mesh filename="terrain1.obj" scale="1 1 1"/>
    </geometry>
    </collision>
  </link>

  <link name="7">
  <contact>
    <lateral_friction value="1"/>
  </contact>
    <inertial>
      <origin rpy="0 0 0" xyz="0 0 0"/>
      <mass value=".0"/>
      <inertia ixx="0" ixy="0" ixz="0" iyy="0" iyz="0" izz="0"/>
    </inertial>
    <visual>
      <origin rpy="0 0 0" xyz="6 -8 -0.02 "/>
    <geometry>
        <mesh filename="terrain1.obj" scale="1 1 1"/>
    </geometry>
    <material name="white">    <color rgba="1 1 1 1"/>    </material>    </visual>
    <collision>
      <origin rpy="0 0 0" xyz="6 -8 -0.02 "/>
    <geometry>
        <mesh filename="terrain1.obj" scale="1 1 1"/>
    </geometry>
    </collision>
  </link>

  <link name="16">
  <contact>
    <lateral_friction value="1"/>
  </contact>
    <inertial>
      <origin rpy="0 0 0" xyz="0 0 0"/>
      <mass value=".0"/>
      <inertia ixx="0" ixy="0" ixz="0" iyy="0" iyz="0" izz="0"/>
    </inertial>
    <visual>
      <origin rpy="0 0 0" xyz="6 -6 -0.0 "/>
    <geometry>
        <mesh filename="terrain1.obj" scale="1 1 1"/>
    </geometry>
    <material name="white">    <color rgba="1 1 1 1"/>    </material>    </visual>
    <collision>
      <origin rpy="0 0 0" xyz="6 -6 -0.0 "/>
    <geometry>
        <mesh filename="terrain1.obj" scale="1 1 1"/>
    </geometry>
    </collision>
  </link>

  <link name="25">
  <contact>
    <lateral_friction value="1"/>
  </contact>
    <inertial>
      <origin rpy="0 0 0" xyz="0 0 0"/>
      <mass value=".0"/>
      <inertia ixx="0" ixy="0" ixz="0" iyy="0" iyz="0" izz="0"/>
    </inertial>
    <visual>
      <origin rpy="0 0 0" xyz="6 -4 -0.02 "/>
    <geometry>
        <mesh filename="terrain1.obj" scale="1 1 1"/>
    </geometry>
    <material name="white">    <color rgba="1 1 1 1"/>    </material>    </visual>
    <collision>
      <origin rpy="0 0 0" xyz="6 -4 -0.02 "/>
    <geometry>
        <mesh filename="terrain1.obj" scale="1 1 1"/>
    </geometry>
    </collision>
  </link>

  <link name="34">
  <contact>
    <lateral_friction value="1"/>
  </contact>
    <inertial>
      <origin rpy="0 0 0" xyz="0 0 0"/>
      <mass value=".0"/>
      <inertia ixx="0" ixy="0" ixz="0" iyy="0" iyz="0" izz="0"/>
    </inertial>
    <visual>
      <origin rpy="0 0 0" xyz="6 -2 -0.0 "/>
    <geometry>
        <mesh filename="terrain1.obj" scale="1 1 1"/>
    </geometry>
    <material name="white">    <color rgba="1 1 1 1"/>    </material>    </visual>
    <collision>
      <origin rpy="0 0 0" xyz="6 -2 -0.0 "/>
    <geometry>
        <mesh filename="terrain1.obj" scale="1 1 1"/>
    </geometry>
    </collision>
  </link>

  <link name="43">
  <contact>
    <lateral_friction value="1"/>
  </contact>
    <inertial>
      <origin rpy="0 0 0" xyz="0 0 0"/>
      <mass value=".0"/>
      <inertia ixx="0" ixy="0" ixz="0" iyy="0" iyz="0" izz="0"/>
    </inertial>
    <visual>
      <origin rpy="0 0 0" xyz="6 0 -0.02 "/>
    <geometry>
        <mesh filename="terrain1.obj" scale="1 1 1"/>
    </geometry>
    <material name="white">    <color rgba="1 1 1 1"/>    </material>    </visual>
    <collision>
      <origin rpy="0 0 0" xyz="6 0 -0.02 "/>
    <geometry>
        <mesh filename="terrain1.obj" scale="1 1 1"/>
    </geometry>
    </collision>
  </link>

  <link name="52">
  <contact>
    <lateral_friction value="1"/>
  </contact>
    <inertial>
      <origin rpy="0 0 0" xyz="0 0 0"/>
      <mass value=".0"/>
      <inertia ixx="0" ixy="0" ixz="0" iyy="0" iyz="0" izz="0"/>
    </inertial>
    <visual>
      <origin rpy="0 0 0" xyz="6 2 -0.0 "/>
    <geometry>
        <mesh filename="terrain1.obj" scale="1 1 1"/>
    </geometry>
    <material name="white">    <color rgba="1 1 1 1"/>    </material>    </visual>
    <collision>
      <origin rpy="0 0 0" xyz="6 2 -0.0 "/>
    <geometry>
        <mesh filename="terrain1.obj" scale="1 1 1"/>
    </geometry>
    </collision>
  </link>

  <link name="61">
  <contact>
    <lateral_friction value="1"/>
  </contact>
    <inertial>
      <origin rpy="0 0 0" xyz="0 0 0"/>
      <mass value=".0"/>
      <inertia ixx="0" ixy="0" ixz="0" iyy="0" iyz="0" izz="0"/>
    </inertial>
    <visual>
      <origin rpy="0 0 0" xyz="6 4 -0.02 "/>
    <geometry>
        <mesh filename="terrain1.obj" scale="1 1 1"/>
    </geometry>
    <material name="white">    <color rgba="1 1 1 1"/>    </material>    </visual>
    <collision>
      <origin rpy="0 0 0" xyz="6 4 -0.02 "/>
    <geometry>
        <mesh filename="terrain1.obj" scale="1 1 1"/>
    </geometry>
    </collision>
  </link>

  <link name="70">
  <contact>
    <lateral_friction value="1"/>
  </contact>
    <inertial>
      <origin rpy="0 0 0" xyz="0 0 0"/>
      <mass value=".0"/>
      <inertia ixx="0" ixy="0" ixz="0" iyy="0" iyz="0" izz="0"/>
    </inertial>
    <visual>
      <origin rpy="0 0 0" xyz="6 6 -0.0 "/>
    <geometry>
        <mesh filename="terrain1.obj" scale="1 1 1"/>
    </geometry>
    <material name="white">    <color rgba="1 1 1 1"/>    </material>    </visual>
    <collision>
      <origin rpy="0 0 0" xyz="6 6 -0.0 "/>
    <geometry>
        <mesh filename="terrain1.obj" scale="1 1 1"/>
    </geometry>
    </collision>
  </link>

  <link name="79">
  <contact>
    <lateral_friction value="1"/>
  </contact>
    <inertial>
      <origin rpy="0 0 0" xyz="0 0 0"/>
      <mass value=".0"/>
      <inertia ixx="0" ixy="0" ixz="0" iyy="0" iyz="0" izz="0"/>
    </inertial>
    <visual>
      <origin rpy="0 0 0" xyz="6 8 -0.02 "/>
    <geometry>
        <mesh filename="terrain1.obj" scale="1 1 1"/>
    </geometry>
    <material name="white">    <color rgba="1 1 1 1"/>    </material>    </visual>
    <collision>
      <origin rpy="0 0 0" xyz="6 8 -0.02 "/>
    <geometry>
        <mesh filename="terrain1.obj" scale="1 1 1"/>
    </geometry>
    </collision>
  </link>

  <link name="8">
  <contact>
    <lateral_friction value="1"/>
  </contact>
    <inertial>
      <origin rpy="0 0 0" xyz="0 0 0"/>
      <mass value=".0"/>
      <inertia ixx="0" ixy="0" ixz="0" iyy="0" iyz="0" izz="0"/>
    </inertial>
    <visual>
      <origin rpy="0 0 0" xyz="8 -8 -0.0 "/>
    <geometry>
        <mesh filename="terrain1.obj" scale="1 1 1"/>
    </geometry>
    <material name="white">    <color rgba="1 1 1 1"/>    </material>    </visual>
    <collision>
      <origin rpy="0 0 0" xyz="8 -8 -0.0 "/>
    <geometry>
        <mesh filename="terrain1.obj" scale="1 1 1"/>
    </geometry>
    </collision>
  </link>

  <link name="17">
  <contact>
    <lateral_friction value="1"/>
  </contact>
    <inertial>
      <origin rpy="0 0 0" xyz="0 0 0"/>
      <mass value=".0"/>
      <inertia ixx="0" ixy="0" ixz="0" iyy="0" iyz="0" izz="0"/>
    </inertial>
    <visual>
      <origin rpy="0 0 0" xyz="8 -6 -0.02 "/>
    <geometry>
        <mesh filename="terrain1.obj" scale="1 1 1"/>
    </geometry>
    <material name="white">    <color rgba="1 1 1 1"/>    </material>    </visual>
    <collision>
      <origin rpy="0 0 0" xyz="8 -6 -0.02 "/>
    <geometry>
        <mesh filename="terrain1.obj" scale="1 1 1"/>
    </geometry>
    </collision>
  </link>

  <link name="26">
  <contact>
    <lateral_friction value="1"/>
  </contact>
    <inertial>
      <origin rpy="0 0 0" xyz="0 0 0"/>
      <mass value=".0"/>
      <inertia ixx="0" ixy="0" ixz="0" iyy="0" iyz="0" izz="0"/>
    </inertial>
    <visual>
      <origin rpy="0 0 0" xyz="8 -4 -0.0 "/>
    <geometry>
        <mesh filename="terrain1.obj" scale="1 1 1"/>
    </geometry>
    <material name="white">    <color rgba="1 1 1 1"/>    </material>    </visual>
    <collision>
      <origin rpy="0 0 0" xyz="8 -4 -0.0 "/>
    <geometry>
        <mesh filename="terrain1.obj" scale="1 1 1"/>
    </geometry>
    </collision>
  </link>

  <link name="35">
  <contact>
    <lateral_friction value="1"/>
  </contact>
    <inertial>
      <origin rpy="0 0 0" xyz="0 0 0"/>
      <mass value=".0"/>
      <inertia ixx="0" ixy="0" ixz="0" iyy="0" iyz="0" izz="0"/>
    </inertial>
    <visual>
      <origin rpy="0 0 0" xyz="8 -2 -0.02 "/>
    <geometry>
        <mesh filename="terrain1.obj" scale="1 1 1"/>
    </geometry>
    <material name="white">    <color rgba="1 1 1 1"/>    </material>    </visual>
    <collision>
      <origin rpy="0 0 0" xyz="8 -2 -0.02 "/>
    <geometry>
        <mesh filename="terrain1.obj" scale="1 1 1"/>
    </geometry>
    </collision>
  </link>

  <link name="44">
  <contact>
    <lateral_friction value="1"/>
  </contact>
    <inertial>
      <origin rpy="0 0 0" xyz="0 0 0"/>
      <mass value=".0"/>
      <inertia ixx="0" ixy="0" ixz="0" iyy="0" iyz="0" izz="0"/>
    </inertial>
    <visual>
      <origin rpy="0 0 0" xyz="8 0 -0.0 "/>
    <geometry>
        <mesh filename="terrain1.obj" scale="1 1 1"/>
    </geometry>
    <material name="white">    <color rgba="1 1 1 1"/>    </material>    </visual>
    <collision>
      <origin rpy="0 0 0" xyz="8 0 -0.0 "/>
    <geometry>
        <mesh filename="terrain1.obj" scale="1 1 1"/>
    </geometry>
    </collision>
  </link>

  <link name="53">
  <contact>
    <lateral_friction value="1"/>
  </contact>
    <inertial>
      <origin rpy="0 0 0" xyz="0 0 0"/>
      <mass value=".0"/>
      <inertia ixx="0" ixy="0" ixz="0" iyy="0" iyz="0" izz="0"/>
    </inertial>
    <visual>
      <origin rpy="0 0 0" xyz="8 2 -0.02 "/>
    <geometry>
        <mesh filename="terrain1.obj" scale="1 1 1"/>
    </geometry>
    <material name="white">    <color rgba="1 1 1 1"/>    </material>    </visual>
    <collision>
      <origin rpy="0 0 0" xyz="8 2 -0.02 "/>
    <geometry>
        <mesh filename="terrain1.obj" scale="1 1 1"/>
    </geometry>
    </collision>
  </link>

  <link name="62">
  <contact>
    <lateral_friction value="1"/>
  </contact>
    <inertial>
      <origin rpy="0 0 0" xyz="0 0 0"/>
      <mass value=".0"/>
      <inertia ixx="0" ixy="0" ixz="0" iyy="0" iyz="0" izz="0"/>
    </inertial>
    <visual>
      <origin rpy="0 0 0" xyz="8 4 -0.0 "/>
    <geometry>
        <mesh filename="terrain1.obj" scale="1 1 1"/>
    </geometry>
    <material name="white">    <color rgba="1 1 1 1"/>    </material>    </visual>
    <collision>
      <origin rpy="0 0 0" xyz="8 4 -0.0 "/>
    <geometry>
        <mesh filename="terrain1.obj" scale="1 1 1"/>
    </geometry>
    </collision>
  </link>

  <link name="71">
  <contact>
    <lateral_friction value="1"/>
  </contact>
    <inertial>
      <origin rpy="0 0 0" xyz="0 0 0"/>
      <mass value=".0"/>
      <inertia ixx="0" ixy="0" ixz="0" iyy="0" iyz="0" izz="0"/>
    </inertial>
    <visual>
      <origin rpy="0 0 0" xyz="8 6 -0.02 "/>
    <geometry>
        <mesh filename="terrain1.obj" scale="1 1 1"/>
    </geometry>
    <material name="white">    <color rgba="1 1 1 1"/>    </material>    </visual>
    <collision>
      <origin rpy="0 0 0" xyz="8 6 -0.02 "/>
    <geometry>
        <mesh filename="terrain1.obj" scale="1 1 1"/>
    </geometry>
    </collision>
  </link>

  <link name="80">
  <contact>
    <lateral_friction value="1"/>
  </contact>
    <inertial>
      <origin rpy="0 0 0" xyz="0 0 0"/>
      <mass value=".0"/>
      <inertia ixx="0" ixy="0" ixz="0" iyy="0" iyz="0" izz="0"/>
    </inertial>
    <visual>
      <origin rpy="0 0 0" xyz="8 8 -0.0 "/>
    <geometry>
        <mesh filename="terrain1.obj" scale="1 1 1"/>
    </geometry>
    <material name="white">    <color rgba="1 1 1 1"/>    </material>    </visual>
    <collision>
      <origin rpy="0 0 0" xyz="8 8 -0.0 "/>
    <geometry>
        <mesh filename="terrain1.obj" scale="1 1 1"/>
    </geometry>
    </collision>
  </link>


<joint name="9" type="fixed">
    <parent link="0"/>
    <child link="9"/>
    <origin rpy="0 0 0" xyz="0 0 0"/>
</joint>
<joint name="18" type="fixed">
    <parent link="0"/>
    <child link="18"/>
    <origin rpy="0 0 0" xyz="0 0 0"/>
</joint>
<joint name="27" type="fixed">
    <parent link="0"/>
    <child link="27"/>
    <origin rpy="0 0 0" xyz="0 0 0"/>
</joint>
<joint name="36" type="fixed">
    <parent link="0"/>
    <child link="36"/>
    <origin rpy="0 0 0" xyz="0 0 0"/>
</joint>
<joint name="45" type="fixed">
    <parent link="0"/>
    <child link="45"/>
    <origin rpy="0 0 0" xyz="0 0 0"/>
</joint>
<joint name="54" type="fixed">
    <parent link="0"/>
    <child link="54"/>
    <origin rpy="0 0 0" xyz="0 0 0"/>
</joint>
<joint name="63" type="fixed">
    <parent link="0"/>
    <child link="63"/>
    <origin rpy="0 0 0" xyz="0 0 0"/>
</joint>
<joint name="72" type="fixed">
    <parent link="0"/>
    <child link="72"/>
    <origin rpy="0 0 0" xyz="0 0 0"/>
</joint>
<joint name="1" type="fixed">
    <parent link="0"/>
    <child link="1"/>
    <origin rpy="0 0 0" xyz="0 0 0"/>
</joint>
<joint name="10" type="fixed">
    <parent link="0"/>
    <child link="10"/>
    <origin rpy="0 0 0" xyz="0 0 0"/>
</joint>
<joint name="19" type="fixed">
    <parent link="0"/>
    <child link="19"/>
    <origin rpy="0 0 0" xyz="0 0 0"/>
</joint>
<joint name="28" type="fixed">
    <parent link="0"/>
    <child link="28"/>
    <origin rpy="0 0 0" xyz="0 0 0"/>
</joint>
<joint name="37" type="fixed">
    <parent link="0"/>
    <child link="37"/>
    <origin rpy="0 0 0" xyz="0 0 0"/>
</joint>
<joint name="46" type="fixed">
    <parent link="0"/>
    <child link="46"/>
    <origin rpy="0 0 0" xyz="0 0 0"/>
</joint>
<joint name="55" type="fixed">
    <parent link="0"/>
    <child link="55"/>
    <origin rpy="0 0 0" xyz="0 0 0"/>
</joint>
<joint name="64" type="fixed">
    <parent link="0"/>
    <child link="64"/>
    <origin rpy="0 0 0" xyz="0 0 0"/>
</joint>
<joint name="73" type="fixed">
    <parent link="0"/>
    <child link="73"/>
    <origin rpy="0 0 0" xyz="0 0 0"/>
</joint>
<joint name="2" type="fixed">
    <parent link="0"/>
    <child link="2"/>
    <origin rpy="0 0 0" xyz="0 0 0"/>
</joint>
<joint name="11" type="fixed">
    <parent link="0"/>
    <child link="11"/>
    <origin rpy="0 0 0" xyz="0 0 0"/>
</joint>
<joint name="20" type="fixed">
    <parent link="0"/>
    <child link="20"/>
    <origin rpy="0 0 0" xyz="0 0 0"/>
</joint>
<joint name="29" type="fixed">
    <parent link="0"/>
    <child link="29"/>
    <origin rpy="0 0 0" xyz="0 0 0"/>
</joint>
<joint name="38" type="fixed">
    <parent link="0"/>
    <child link="38"/>
    <origin rpy="0 0 0" xyz="0 0 0"/>
</joint>
<joint name="47" type="fixed">
    <parent link="0"/>
    <child link="47"/>
    <origin rpy="0 0 0" xyz="0 0 0"/>
</joint>
<joint name="56" type="fixed">
    <parent link="0"/>
    <child link="56"/>
    <origin rpy="0 0 0" xyz="0 0 0"/>
</joint>
<joint name="65" type="fixed">
    <parent link="0"/>
    <child link="65"/>
    <origin rpy="0 0 0" xyz="0 0 0"/>
</joint>
<joint name="74" type="fixed">
    <parent link="0"/>
    <child link="74"/>
    <origin rpy="0 0 0" xyz="0 0 0"/>
</joint>
<joint name="3" type="fixed">
    <parent link="0"/>
    <child link="3"/>
    <origin rpy="0 0 0" xyz="0 0 0"/>
</joint>
<joint name="12" type="fixed">
    <parent link="0"/>
    <child link="12"/>
    <origin rpy="0 0 0" xyz="0 0 0"/>
</joint>
<joint name="21" type="fixed">
    <parent link="0"/>
    <child link="21"/>
    <origin rpy="0 0 0" xyz="0 0 0"/>
</joint>
<joint name="30" type="fixed">
    <parent link="0"/>
    <child link="30"/>
    <origin rpy="0 0 0" xyz="0 0 0"/>
</joint>
<joint name="39" type="fixed">
    <parent link="0"/>
    <child link="39"/>
    <origin rpy="0 0 0" xyz="0 0 0"/>
</joint>
<joint name="48" type="fixed">
    <parent link="0"/>
    <child link="48"/>
    <origin rpy="0 0 0" xyz="0 0 0"/>
</joint>
<joint name="57" type="fixed">
    <parent link="0"/>
    <child link="57"/>
    <origin rpy="0 0 0" xyz="0 0 0"/>
</joint>
<joint name="66" type="fixed">
    <parent link="0"/>
    <child link="66"/>
    <origin rpy="0 0 0" xyz="0 0 0"/>
</joint>
<joint name="75" type="fixed">
    <parent link="0"/>
    <child link="75"/>
    <origin rpy="0 0 0" xyz="0 0 0"/>
</joint>
<joint name="4" type="fixed">
    <parent link="0"/>
    <child link="4"/>
    <origin rpy="0 0 0" xyz="0 0 0"/>
</joint>
<joint name="13" type="fixed">
    <parent link="0"/>
    <child link="13"/>
    <origin rpy="0 0 0" xyz="0 0 0"/>
</joint>
<joint name="22" type="fixed">
    <parent link="0"/>
    <child link="22"/>
    <origin rpy="0 0 0" xyz="0 0 0"/>
</joint>
<joint name="31" type="fixed">
    <parent link="0"/>
    <child link="31"/>
    <origin rpy="0 0 0" xyz="0 0 0"/>
</joint>
<joint name="40" type="fixed">
    <parent link="0"/>
    <child link="40"/>
    <origin rpy="0 0 0" xyz="0 0 0"/>
</joint>
<joint name="49" type="fixed">
    <parent link="0"/>
    <child link="49"/>
    <origin rpy="0 0 0" xyz="0 0 0"/>
</joint>
<joint name="58" type="fixed">
    <parent link="0"/>
    <child link="58"/>
    <origin rpy="0 0 0" xyz="0 0 0"/>
</joint>
<joint name="67" type="fixed">
    <parent link="0"/>
    <child link="67"/>
    <origin rpy="0 0 0" xyz="0 0 0"/>
</joint>
<joint name="76" type="fixed">
    <parent link="0"/>
    <child link="76"/>
    <origin rpy="0 0 0" xyz="0 0 0"/>
</joint>
<joint name="5" type="fixed">
    <parent link="0"/>
    <child link="5"/>
    <origin rpy="0 0 0" xyz="0 0 0"/>
</joint>
<joint name="14" type="fixed">
    <parent link="0"/>
    <child link="14"/>
    <origin rpy="0 0 0" xyz="0 0 0"/>
</joint>
<joint name="23" type="fixed">
    <parent link="0"/>
    <child link="23"/>
    <origin rpy="0 0 0" xyz="0 0 0"/>
</joint>
<joint name="32" type="fixed">
    <parent link="0"/>
    <child link="32"/>
    <origin rpy="0 0 0" xyz="0 0 0"/>
</joint>
<joint name="41" type="fixed">
    <parent link="0"/>
    <child link="41"/>
    <origin rpy="0 0 0" xyz="0 0 0"/>
</joint>
<joint name="50" type="fixed">
    <parent link="0"/>
    <child link="50"/>
    <origin rpy="0 0 0" xyz="0 0 0"/>
</joint>
<joint name="59" type="fixed">
    <parent link="0"/>
    <child link="59"/>
    <origin rpy="0 0 0" xyz="0 0 0"/>
</joint>
<joint name="68" type="fixed">
    <parent link="0"/>
    <child link="68"/>
    <origin rpy="0 0 0" xyz="0 0 0"/>
</joint>
<joint name="77" type="fixed">
    <parent link="0"/>
    <child link="77"/>
    <origin rpy="0 0 0" xyz="0 0 0"/>
</joint>
<joint name="6" type="fixed">
    <parent link="0"/>
    <child link="6"/>
    <origin rpy="0 0 0" xyz="0 0 0"/>
</joint>
<joint name="15" type="fixed">
    <parent link="0"/>
    <child link="15"/>
    <origin rpy="0 0 0" xyz="0 0 0"/>
</joint>
<joint name="24" type="fixed">
    <parent link="0"/>
    <child link="24"/>
    <origin rpy="0 0 0" xyz="0 0 0"/>
</joint>
<joint name="33" type="fixed">
    <parent link="0"/>
    <child link="33"/>
    <origin rpy="0 0 0" xyz="0 0 0"/>
</joint>
<joint name="42" type="fixed">
    <parent link="0"/>
    <child link="42"/>
    <origin rpy="0 0 0" xyz="0 0 0"/>
</joint>
<joint name="51" type="fixed">
    <parent link="0"/>
    <child link="51"/>
    <origin rpy="0 0 0" xyz="0 0 0"/>
</joint>
<joint name="60" type="fixed">
    <parent link="0"/>
    <child link="60"/>
    <origin rpy="0 0 0" xyz="0 0 0"/>
</joint>
<joint name="69" type="fixed">
    <parent link="0"/>
    <child link="69"/>
    <origin rpy="0 0 0" xyz="0 0 0"/>
</joint>
<joint name="78" type="fixed">
    <parent link="0"/>
    <child link="78"/>
    <origin rpy="0 0 0" xyz="0 0 0"/>
</joint>
<joint name="7" type="fixed">
    <parent link="0"/>
    <child link="7"/>
    <origin rpy="0 0 0" xyz="0 0 0"/>
</joint>
<joint name="16" type="fixed">
    <parent link="0"/>
    <child link="16"/>
    <origin rpy="0 0 0" xyz="0 0 0"/>
</joint>
<joint name="25" type="fixed">
    <parent link="0"/>
    <child link="25"/>
    <origin rpy="0 0 0" xyz="0 0 0"/>
</joint>
<joint name="34" type="fixed">
    <parent link="0"/>
    <child link="34"/>
    <origin rpy="0 0 0" xyz="0 0 0"/>
</joint>
<joint name="43" type="fixed">
    <parent link="0"/>
    <child link="43"/>
    <origin rpy="0 0 0" xyz="0 0 0"/>
</joint>
<joint name="52" type="fixed">
    <parent link="0"/>
    <child link="52"/>
    <origin rpy="0 0 0" xyz="0 0 0"/>
</joint>
<joint name="61" type="fixed">
    <parent link="0"/>
    <child link="61"/>
    <origin rpy="0 0 0" xyz="0 0 0"/>
</joint>
<joint name="70" type="fixed">
    <parent link="0"/>
    <child link="70"/>
    <origin rpy="0 0 0" xyz="0 0 0"/>
</joint>
<joint name="79" type="fixed">
    <parent link="0"/>
    <child link="79"/>
    <origin rpy="0 0 0" xyz="0 0 0"/>
</joint>
<joint name="8" type="fixed">
    <parent link="0"/>
    <child link="8"/>
    <origin rpy="0 0 0" xyz="0 0 0"/>
</joint>
<joint name="17" type="fixed">
    <parent link="0"/>
    <child link="17"/>
    <origin rpy="0 0 0" xyz="0 0 0"/>
</joint>
<joint name="26" type="fixed">
    <parent link="0"/>
    <child link="26"/>
    <origin rpy="0 0 0" xyz="0 0 0"/>
</joint>
<joint name="35" type="fixed">
    <parent link="0"/>
    <child link="35"/>
    <origin rpy="0 0 0" xyz="0 0 0"/>
</joint>
<joint name="44" type="fixed">
    <parent link="0"/>
    <child link="44"/>
    <origin rpy="0 0 0" xyz="0 0 0"/>
</joint>
<joint name="53" type="fixed">
    <parent link="0"/>
    <child link="53"/>
    <origin rpy="0 0 0" xyz="0 0 0"/>
</joint>
<joint name="62" type="fixed">
    <parent link="0"/>
    <child link="62"/>
    <origin rpy="0 0 0" xyz="0 0 0"/>
</joint>
<joint name="71" type="fixed">
    <parent link="0"/>
    <child link="71"/>
    <origin rpy="0 0 0" xyz="0 0 0"/>
</joint>
<joint name="80" type="fixed">
    <parent link="0"/>
    <child link="80"/>
    <origin rpy="0 0 0" xyz="0 0 0"/>
</joint>

  <link name="bords">
  <contact>
    <lateral_friction value="1"/>
  </contact>
    <inertial>
      <origin rpy="0 0 0" xyz="0 0 0"/>
      <mass value=".0"/>
      <inertia ixx="0" ixy="0" ixz="0" iyy="0" iyz="0" izz="0"/>
    </inertial>
    <visual>
      <origin rpy="0 0 0" xyz="0 0 0"/>
    <geometry>
        <mesh filename="bords.obj" scale="1 1 1"/>
    </geometry>
    <material name="white">    <color rgba="1 1 1 1"/>    </material>    </visual>
  </link>

<joint name="bords" type="fixed">
    <parent link="0"/>
    <child link="bords"/>
    <origin rpy="0 0 0" xyz="0 0 0"/>
</joint>
</robot>
